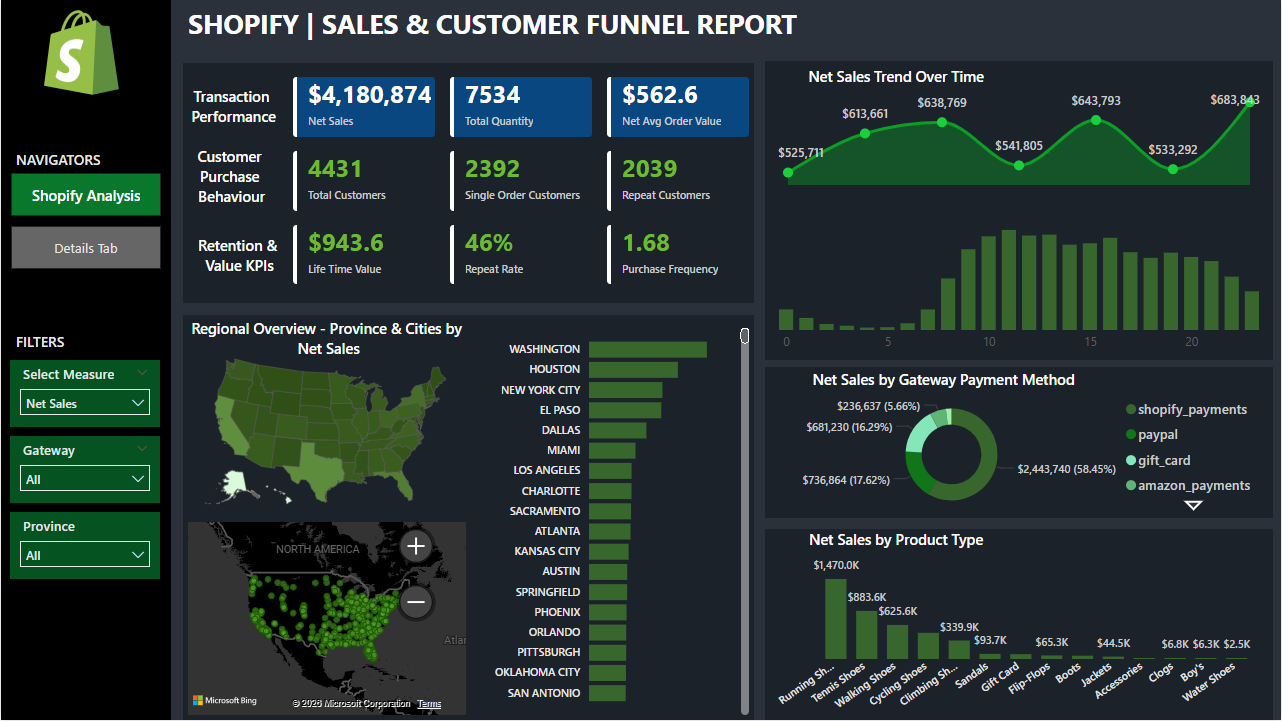

The dashboard page shown, as its layout file describes it:
{"tool":"powerbi","page":{"name":"Shopify Analysis","canvas":[1280,720],"ordinal":0},"visuals":[{"type":"shape","box":[0,0,170,720],"z":0},{"type":"textbox","box":[181.9,0,752.8,47.7],"z":1000},{"type":"shape","box":[181.8,63,571,240.3],"z":2000},{"type":"cardVisual","fields":{"Data":["shopify_sales.Net Sales","shopify_sales.Total Quantity","shopify_sales.Net Avg Order Value"]},"box":[289.1,74.5,463.7,65.6],"z":3000},{"type":"card","fields":{"Values":["shopify_sales.Transaction Perf"]},"box":[170.2,74.5,125,63],"z":4000},{"type":"cardVisual","fields":{"Data":["shopify_sales.Total Customers","shopify_sales.Single Order Customers","shopify_sales.Repeat Customers"]},"box":[289.1,148.1,463.7,65.6],"z":5000},{"type":"cardVisual","fields":{"Data":["shopify_sales.Life Time Value","shopify_sales.Repeat Rate","shopify_sales.Purchase Frequency"]},"box":[289.1,221.7,463.7,65.6],"z":6000},{"type":"card","fields":{"Values":["shopify_sales.Customer Purchase Behaviour"]},"box":[181.8,133,97.5,79.8],"z":7000},{"type":"card","fields":{"Values":["shopify_sales.Retention & Value KPIs"]},"box":[181.8,222.6,113.5,63],"z":8000},{"type":"shape","box":[181.8,314.8,571,405.2],"z":9000},{"type":"shapeMap","fields":{"Value":["shopify_sales.Net Sales"],"Category":["shopify_sales.Billing Address Province"]},"box":[182,346,285,171],"z":10000},{"type":"slicer","fields":{"Values":["Select Measure.Select Measure"]},"box":[9,360,149.9,67.4],"z":11000},{"type":"map","fields":{"Category":["shopify_sales.Location"]},"box":[182,517,288,203],"z":12000},{"type":"barChart","fields":{"Category":["shopify_sales.CITY"],"Y":["shopify_sales.Net Sales"]},"box":[477,315,276,405],"z":12001},{"type":"card","fields":{"Values":["shopify_sales.Map Title"]},"box":[185,301,285,74],"z":12002},{"type":"shape","box":[764,61,508,299],"z":12003},{"type":"areaChart","fields":{"Category":["shopify_sales.Invoice Date.Variation.Date Hierarchy.Day"],"Y":["shopify_sales.Net Sales"]},"box":[772,81,492,109],"z":12004},{"type":"columnChart","fields":{"Category":["shopify_sales.Hour"],"Y":["shopify_sales.Net Sales"]},"box":[772,190,492,170],"z":12005},{"type":"card","fields":{"Values":["shopify_sales.Trend Title"]},"box":[764,63,262,32],"z":12006},{"type":"shape","box":[764,367,508,151],"z":12007},{"type":"donutChart","fields":{"Category":["shopify_sales.Gateway"],"Y":["shopify_sales.Net Sales"]},"box":[772,391,492,127],"z":12008},{"type":"card","fields":{"Values":["shopify_sales.Gateway Title"]},"box":[764,366,357,32],"z":12009},{"type":"shape","box":[764,529,508,191],"z":12010},{"type":"columnChart","fields":{"Category":["shopify_sales.Product Type"],"Y":["shopify_sales.Net Sales"]},"box":[772,542,492,178],"z":12011},{"type":"card","fields":{"Values":["shopify_sales.Product Title"]},"box":[764,526,262,32],"z":12012},{"type":"image","box":[39,10,83,85],"z":12013},{"type":"slicer","fields":{"Values":["shopify_sales.Gateway"]},"box":[9.1,436.2,150,67],"z":12014},{"type":"slicer","fields":{"Values":["shopify_sales.Billing Address Province"]},"box":[9,512,150,67],"z":12015},{"type":"pageNavigator","box":[10,173,150,97],"z":12016},{"type":"textbox","box":[10,145,97,33],"z":12017},{"type":"textbox","box":[10,327,97,33],"z":12018}]}

Visuals, with their boxes in screenshot pixels (x1, y1, x2, y2), scaled from the page's 1280x720 canvas onto the 1282x721 screenshot:
shape: box(0, 0, 170, 720)
textbox: box(182, 0, 936, 48)
shape: box(182, 63, 754, 304)
cardVisual - shopify_sales.Net Sales x shopify_sales.Total Quantity: box(290, 75, 754, 140)
card - shopify_sales.Transaction Perf: box(170, 75, 296, 138)
cardVisual - shopify_sales.Total Customers x shopify_sales.Single Order Customers: box(290, 148, 754, 214)
cardVisual - shopify_sales.Life Time Value x shopify_sales.Repeat Rate: box(290, 222, 754, 288)
card - shopify_sales.Customer Purchase Behaviour: box(182, 133, 280, 213)
card - shopify_sales.Retention & Value KPIs: box(182, 223, 296, 286)
shape: box(182, 315, 754, 720)
shapeMap - shopify_sales.Net Sales x shopify_sales.Billing Address Province: box(182, 346, 468, 518)
slicer - Select Measure.Select Measure: box(9, 360, 159, 428)
map - shopify_sales.Location: box(182, 518, 471, 720)
barChart - shopify_sales.CITY x shopify_sales.Net Sales: box(478, 315, 754, 720)
card - shopify_sales.Map Title: box(185, 301, 471, 376)
shape: box(765, 61, 1274, 360)
areaChart - shopify_sales.Invoice Date.Variation.Date Hierarchy.Day x shopify_sales.Net Sales: box(773, 81, 1266, 190)
columnChart - shopify_sales.Hour x shopify_sales.Net Sales: box(773, 190, 1266, 360)
card - shopify_sales.Trend Title: box(765, 63, 1028, 95)
shape: box(765, 368, 1274, 519)
donutChart - shopify_sales.Gateway x shopify_sales.Net Sales: box(773, 392, 1266, 519)
card - shopify_sales.Gateway Title: box(765, 367, 1123, 399)
shape: box(765, 530, 1274, 720)
columnChart - shopify_sales.Product Type x shopify_sales.Net Sales: box(773, 543, 1266, 720)
card - shopify_sales.Product Title: box(765, 527, 1028, 559)
image: box(39, 10, 122, 95)
slicer - shopify_sales.Gateway: box(9, 437, 159, 504)
slicer - shopify_sales.Billing Address Province: box(9, 513, 159, 580)
pageNavigator: box(10, 173, 160, 270)
textbox: box(10, 145, 107, 178)
textbox: box(10, 327, 107, 360)
